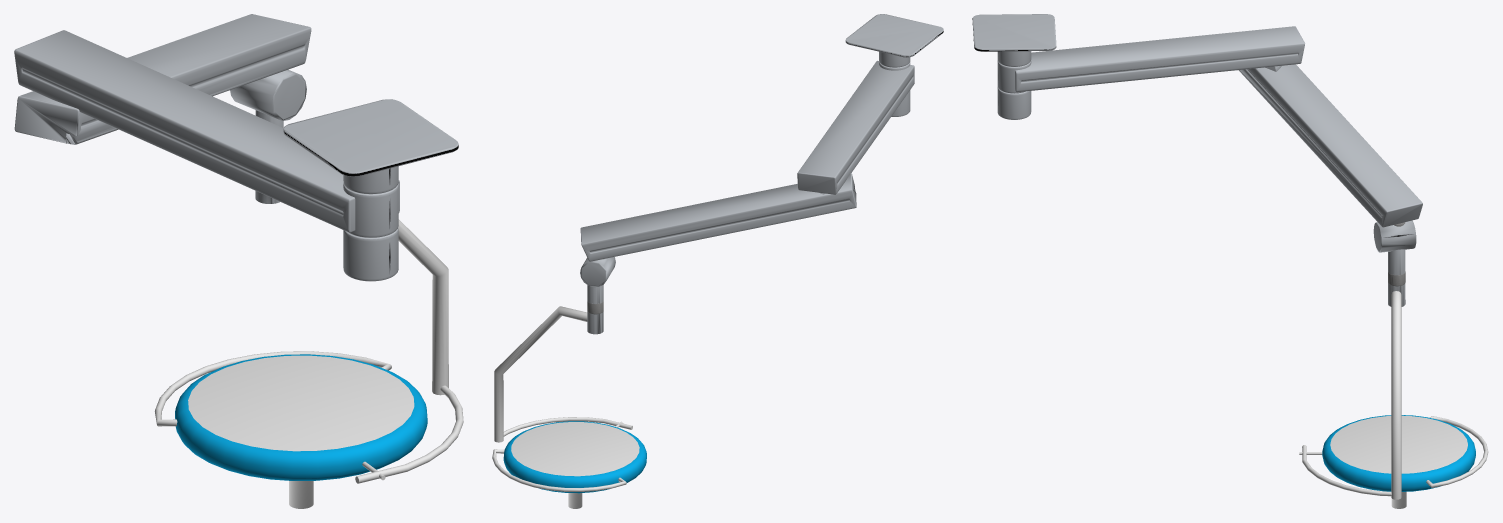
The picture shows the model from 3 angles, left to right: view 1: azimuth 30°, elevation 25°; view 2: azimuth 150°, elevation 25°; view 3: azimuth 270°, elevation 25°; orthographic projection. The views are drawn at different scales.
Parts seen in each view (by area): view 1: N-11; view 2: N-11; view 3: N-11.
Part boxes in pixels (x1,y1,x2,y2): N-11: (14,14,463,508); N-11: (492,14,943,508); N-11: (972,14,1488,508).
Size of the model in its own units: 97.66 by 115 by 134.
